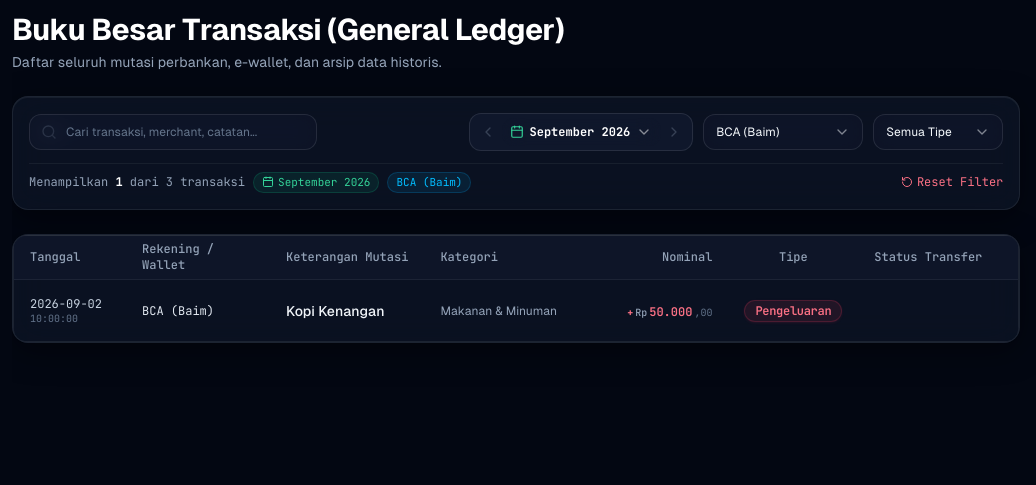
Wallet Card Click & Navigation to Transactions › clears wallet filter when Reset Filter is clicked
The image size is (1036, 485).
Expected: the text "Gaji Mandiri" is not shown
Click Reset Filter
Click the button "Reset Filter". click: (952, 182)
box: [901,174,1003,190]
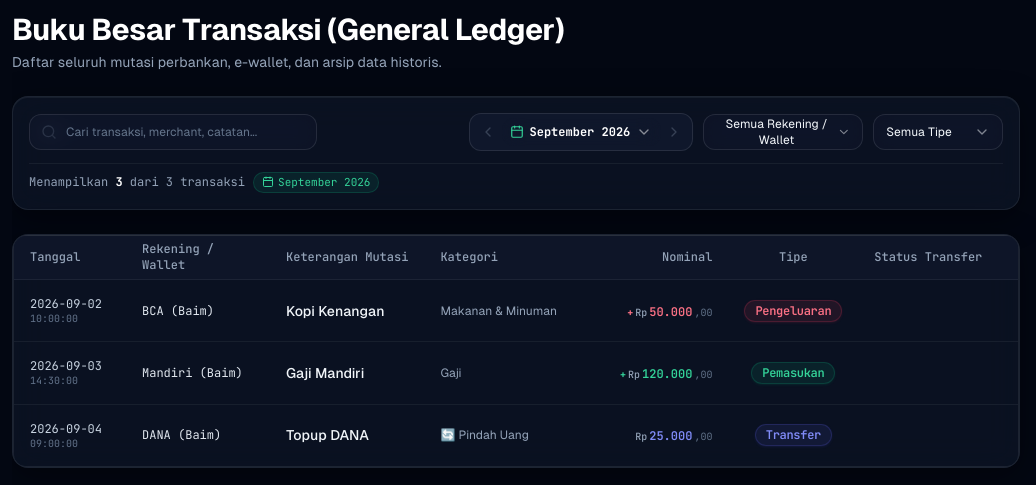
Expected: the text "Gaji Mandiri" is shown, [286,365,364,381]
Expected: the text "Topup DANA" is shown, [286,428,369,444]
Expected: the text "3 dari 3 transaksi" is shown, [29,174,245,190]
